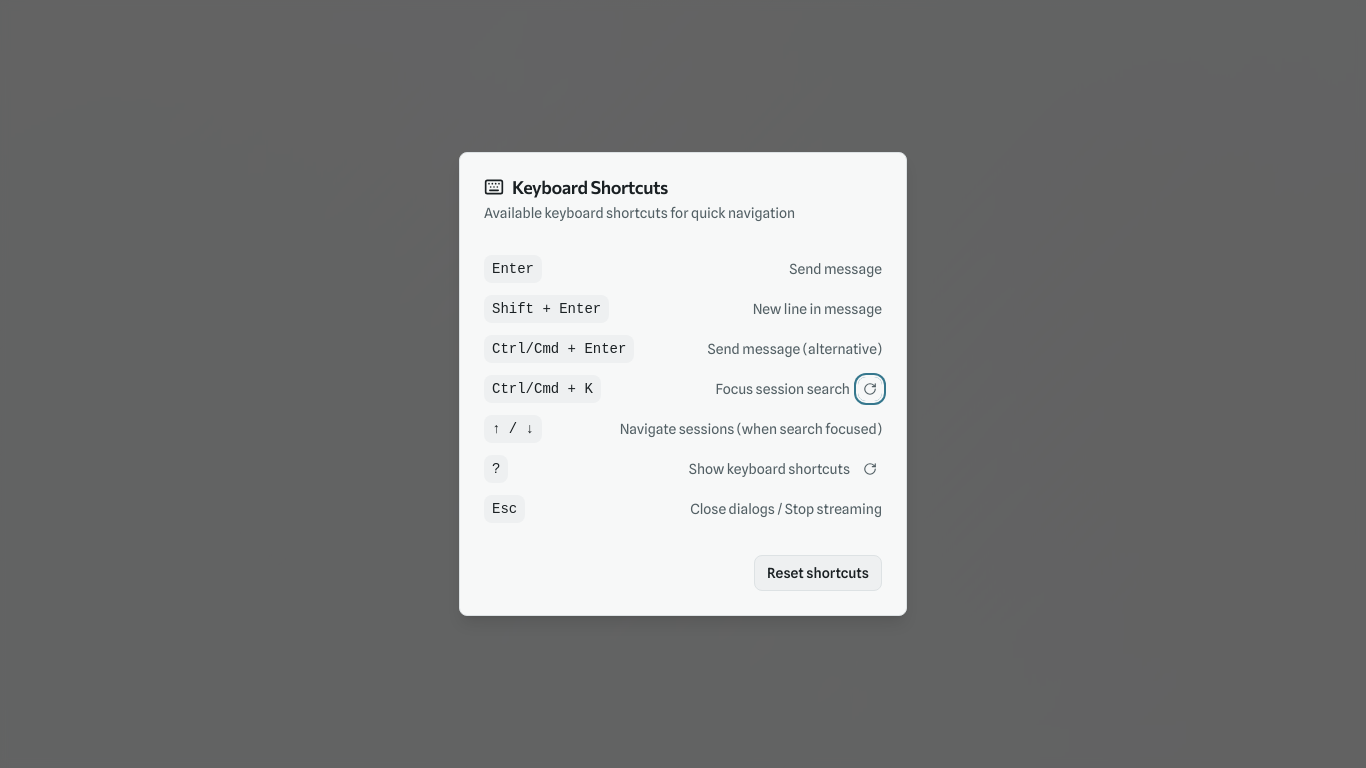
issue #775 — rebind capture safety nets › focusSearch re-capturing its own default Ctrl+K is an allowed identity rebind (delta review r1)
The width and height of the screenshot is (1366, 768).
Click the button named "rebind shortcut: focus session search".
click(870, 389)  # box [858,377,882,401]
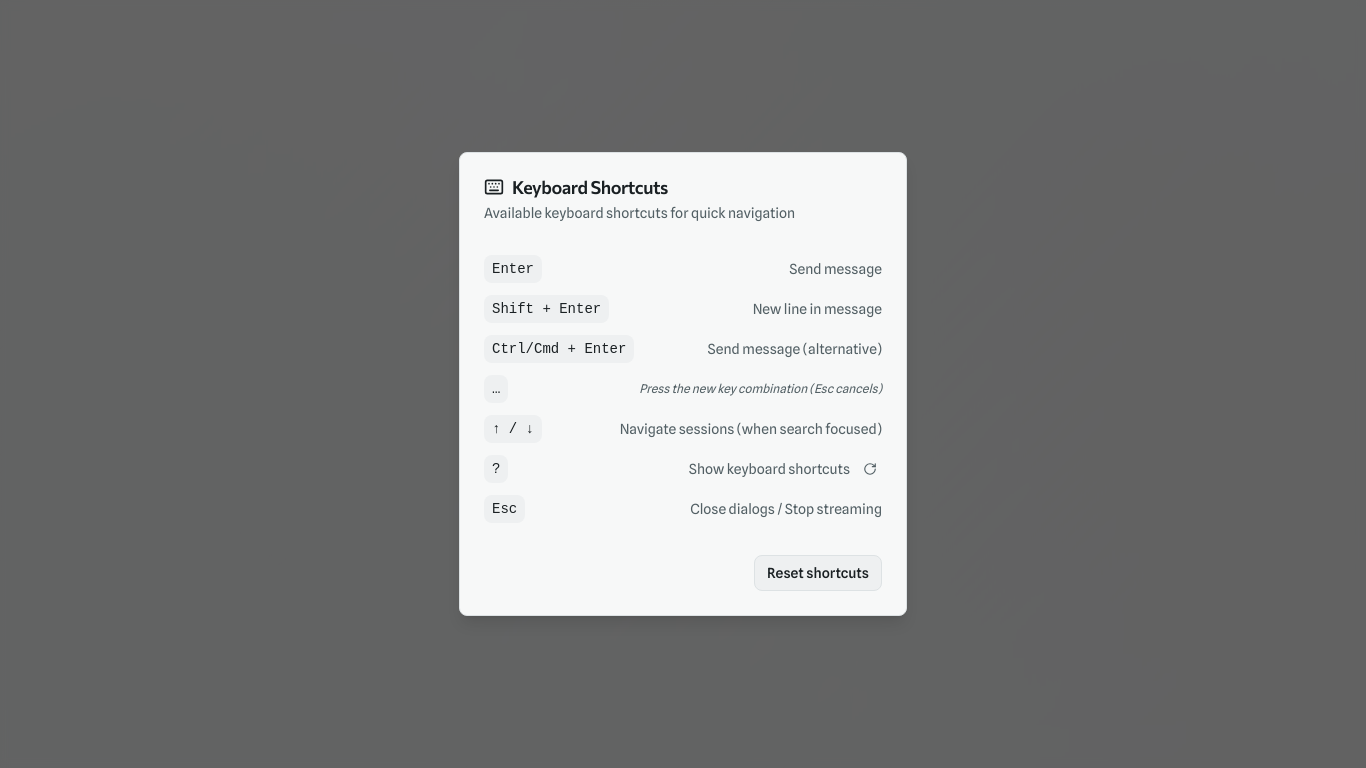
Press k
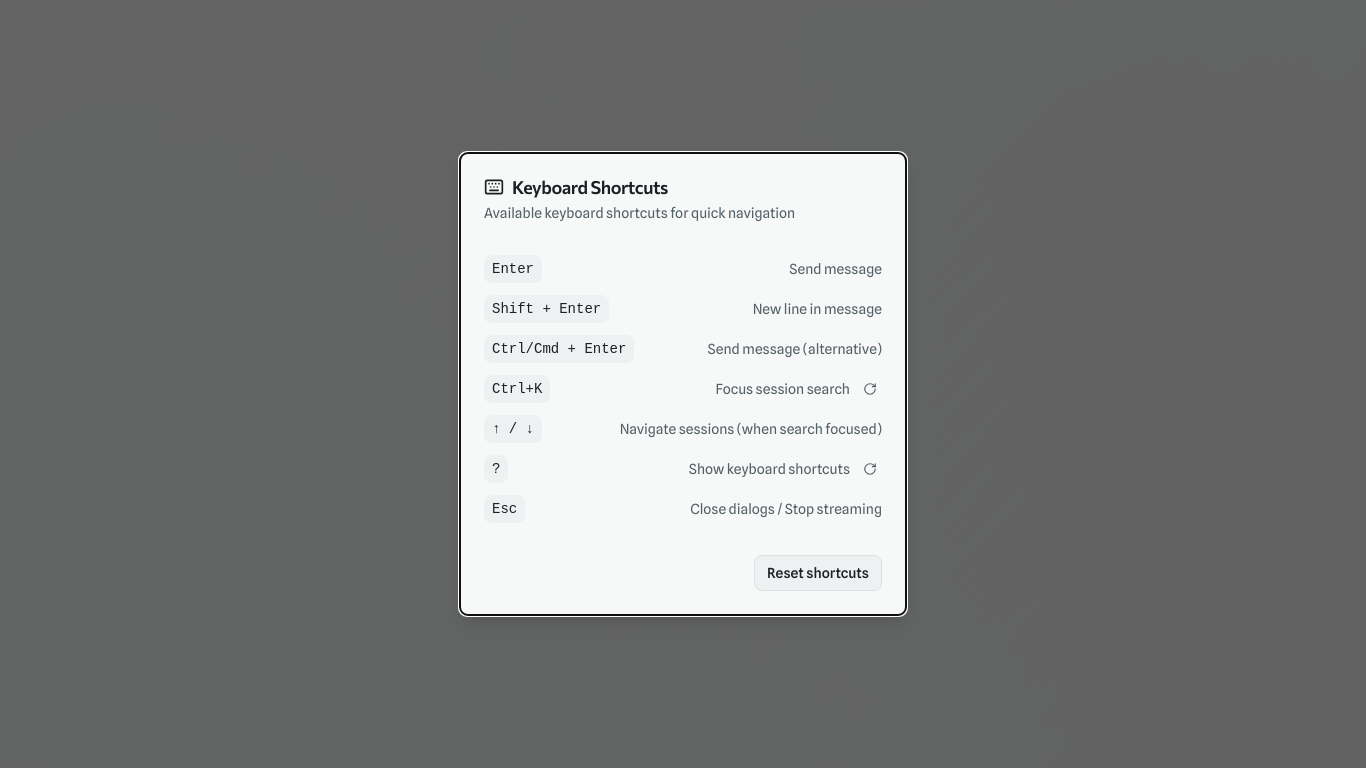
Check: the text "Press" is gone
